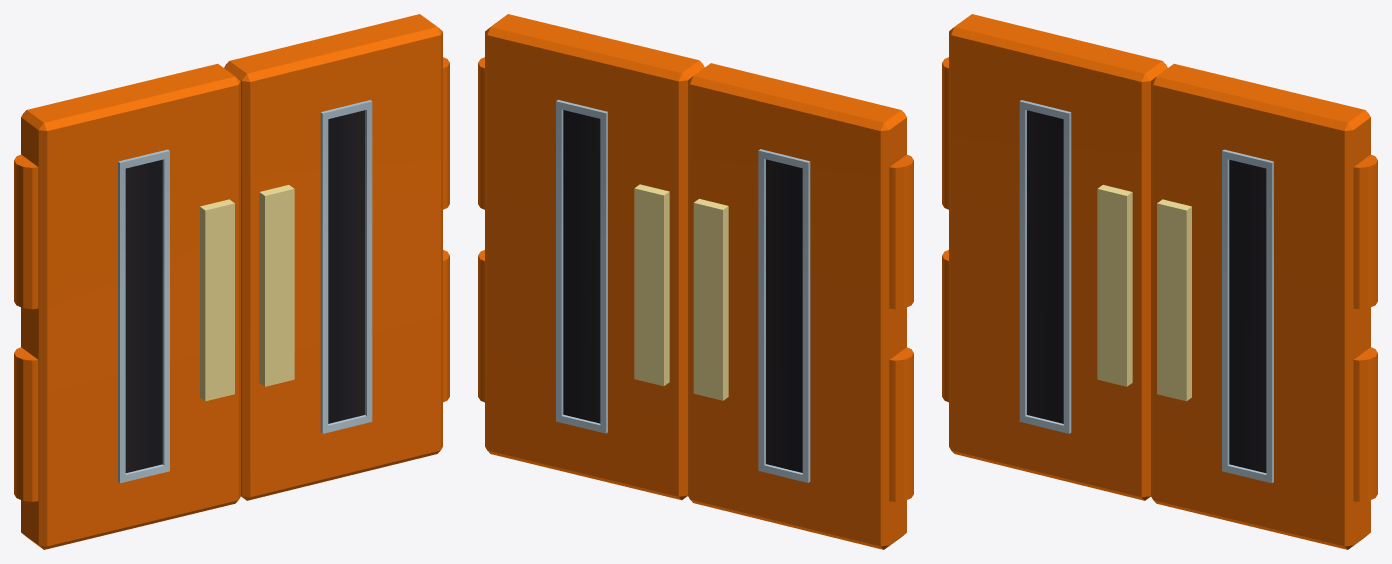
Rendered from Doors.fbx.
The picture shows the model from 3 angles, left to right: view 1: azimuth 30°, elevation 25°; view 2: azimuth 150°, elevation 25°; view 3: azimuth 330°, elevation 25°; orthographic projection.
Visible parts, largest first — view 1: Door2, Door1; view 2: Door2, Door1; view 3: Door1, Door2.
Part boxes in pixels (x1,y1,x2,y2): Door2: (14,63,240,549); Door1: (224,14,449,500); Door2: (688,63,913,549); Door1: (478,14,704,500); Door1: (1151,63,1377,549); Door2: (942,14,1167,500).
Size of the model in its own units: 1.56 by 1.48 by 0.2213.
